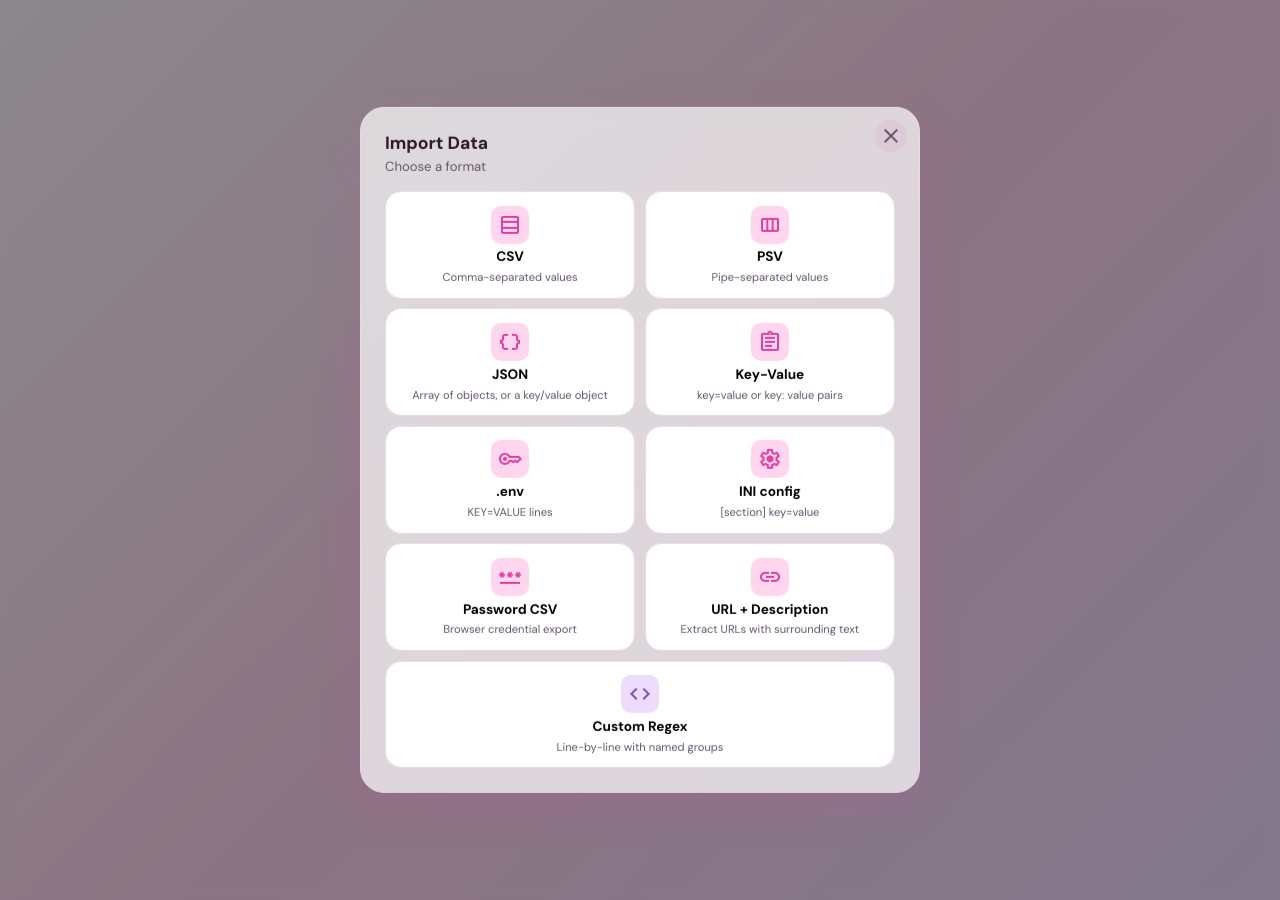
choosing a format › moves to the paste step once one is picked
The width and height of the screenshot is (1280, 900).
Click the button with class "format-card" showing "CSV Comma-separated values" at coordinates (510, 245), box [385,191,635,299]
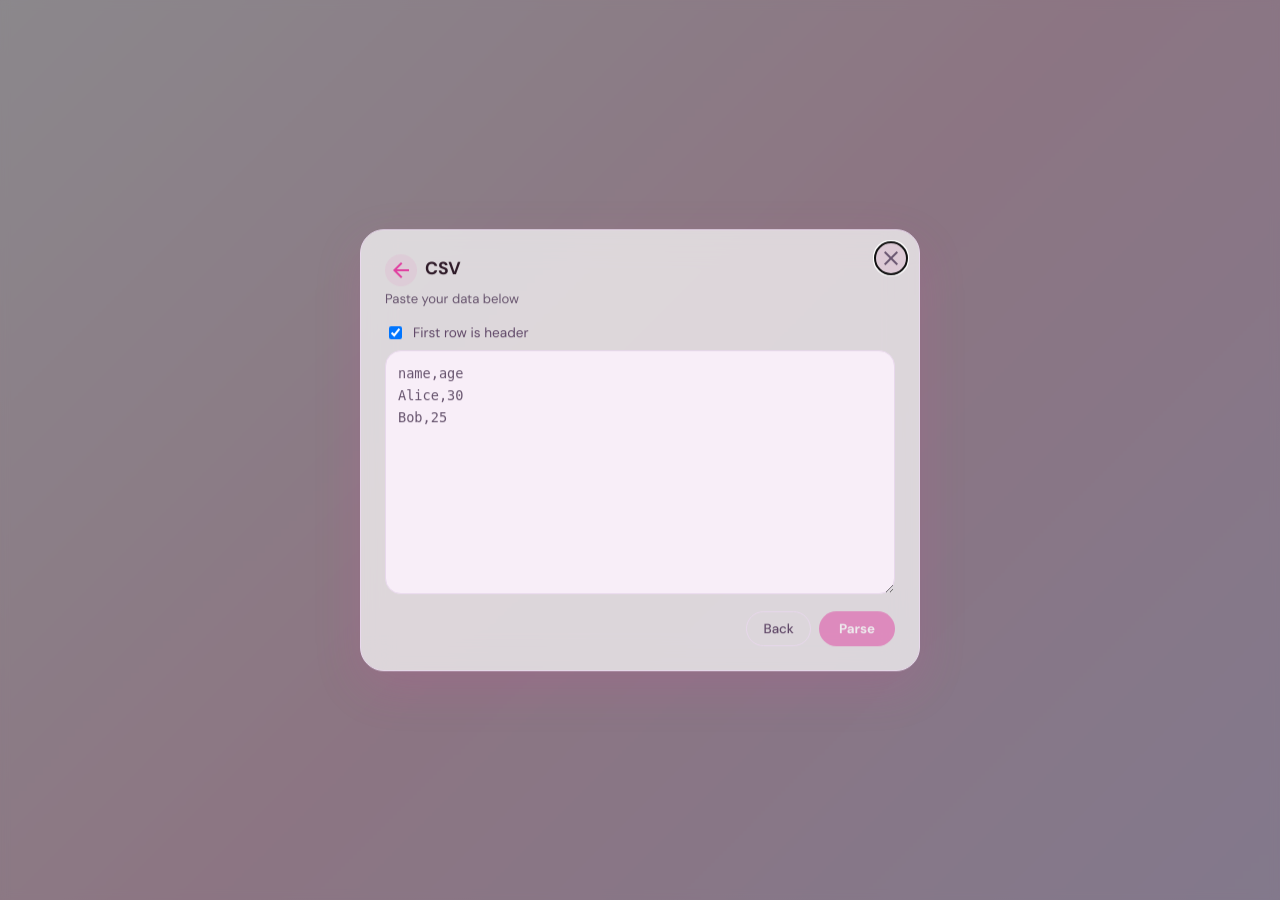
Expected: the text box with class "data-textarea" is shown, [385,350,895,594]
